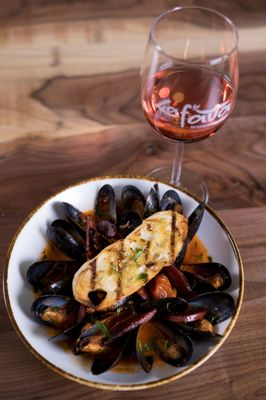sushi: (2, 187, 245, 389)
